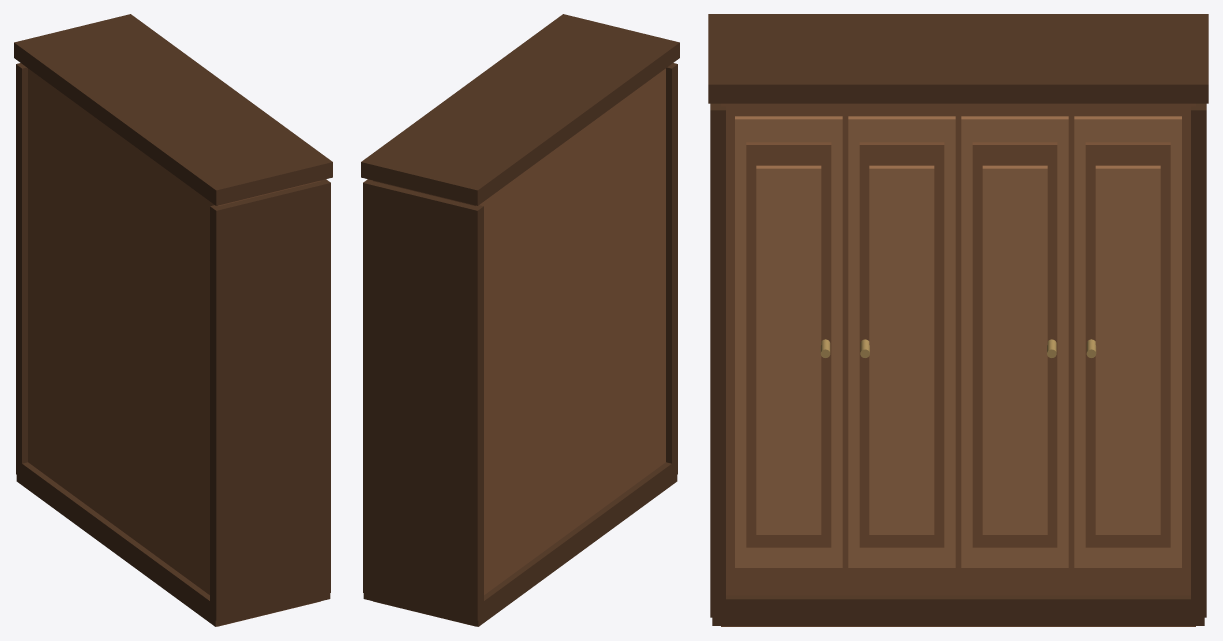
File: wardrobe.glb
The picture shows the model from 3 angles, left to right: view 1: azimuth 30°, elevation 25°; view 2: azimuth 150°, elevation 25°; view 3: azimuth 270°, elevation 25°; orthographic projection. The views are drawn at different scales.
Visible parts, largest first — view 1: 柜体, 另一侧立柱, 柜顶线条, 柜底座, 侧面立柱; view 2: 柜体, 侧面立柱, 柜顶线条, 柜底座, 另一侧立柱; view 3: 柜顶线条, 柜体, 柜门饰板2, 柜门饰板3, 柜门饰板1, 柜门饰板4, 柜底座, 柜门1, 柜门2, 柜门3, 柜门4, 柜门内框1 (+5 smaller).
Part boxes in pixels (left/top/right/bottom): 柜体: left=28, top=68, right=320, bottom=626; 另一侧立柱: left=210, top=179, right=330, bottom=620; 柜顶线条: left=14, top=14, right=332, bottom=205; 柜底座: left=16, top=460, right=330, bottom=626; 侧面立柱: left=16, top=63, right=27, bottom=478; 柜体: left=373, top=68, right=665, bottom=626; 侧面立柱: left=363, top=179, right=483, bottom=620; 柜顶线条: left=361, top=14, right=679, bottom=205; 柜底座: left=363, top=460, right=677, bottom=626; 另一侧立柱: left=666, top=63, right=677, bottom=474; 柜顶线条: left=708, top=14, right=1208, bottom=103; 柜体: left=721, top=103, right=1195, bottom=626; 柜门饰板2: left=982, top=165, right=1047, bottom=534; 柜门饰板3: left=869, top=165, right=934, bottom=534; 柜门饰板1: left=1095, top=165, right=1160, bottom=534; 柜门饰板4: left=756, top=165, right=821, bottom=534; 柜底座: left=712, top=595, right=1204, bottom=625; 柜门1: left=1074, top=116, right=1181, bottom=567; 柜门2: left=961, top=116, right=1068, bottom=567; 柜门3: left=848, top=116, right=955, bottom=567; 柜门4: left=735, top=116, right=842, bottom=567; 柜门内框1: left=1085, top=142, right=1170, bottom=547.
Size of the model in its own units: 0.693 by 2.13 by 1.77.
